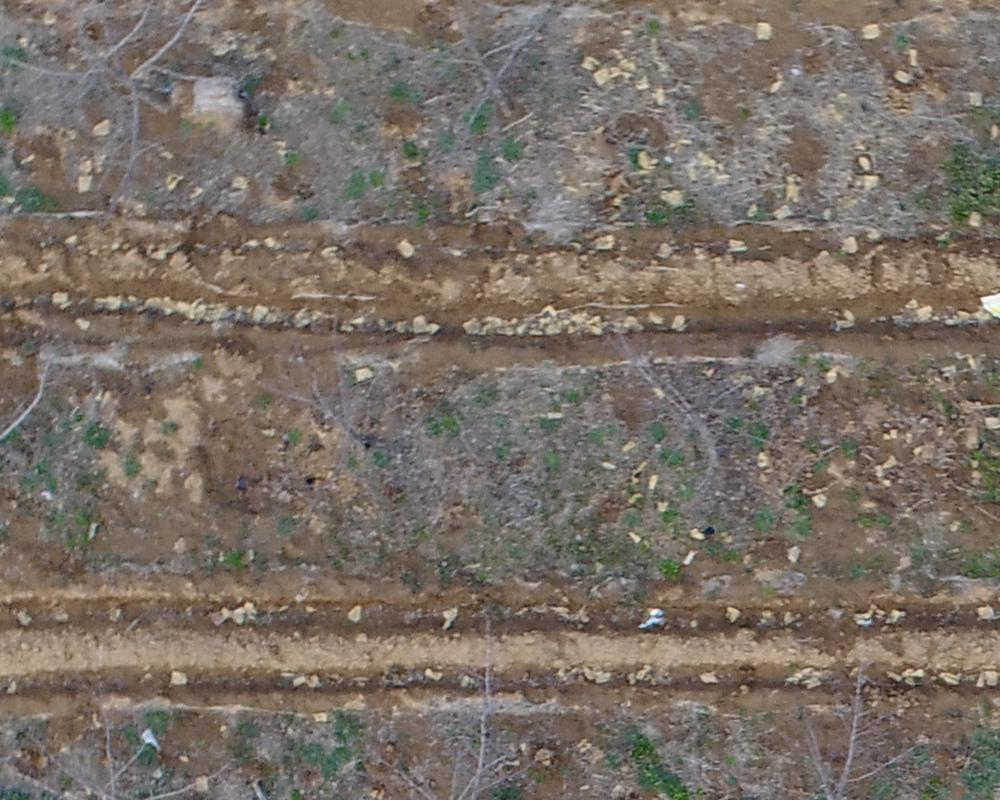apple: (344, 595, 558, 790), (579, 322, 792, 497), (38, 10, 225, 207), (719, 653, 921, 790), (267, 326, 421, 492), (10, 699, 225, 790), (404, 10, 556, 130)
